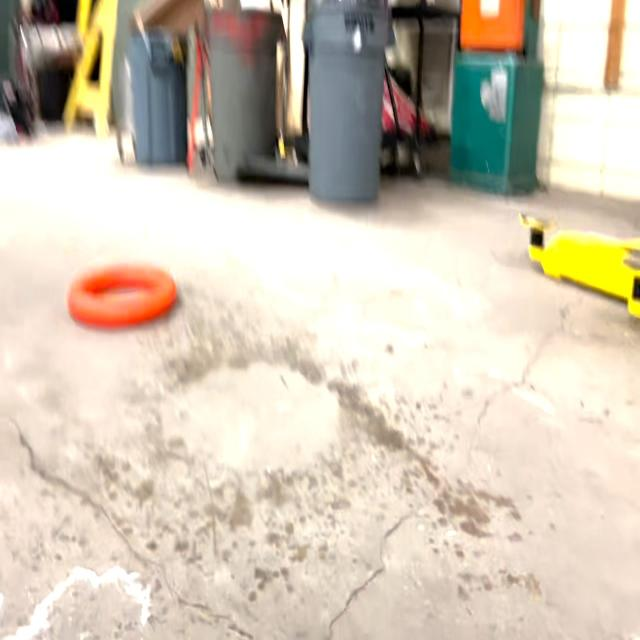note: (66, 260, 177, 331)
